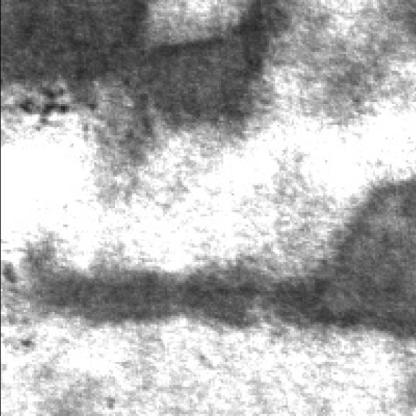patches: (10, 0, 308, 154), (25, 243, 379, 331), (324, 177, 416, 329)
